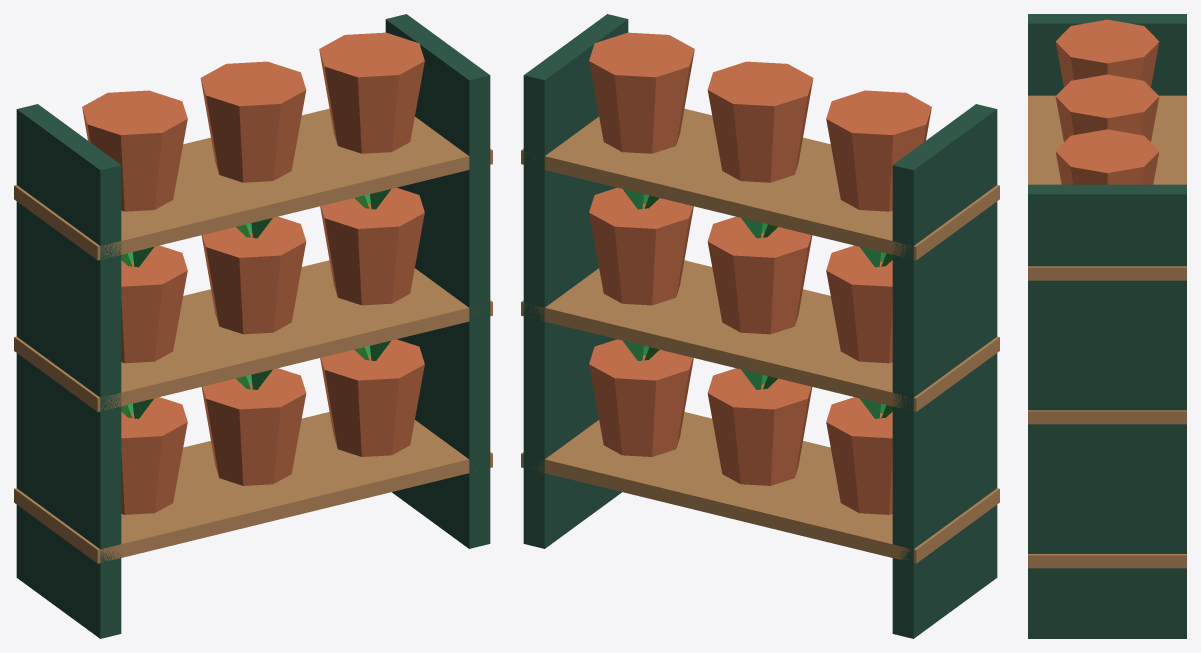
File: pot_rack.glb
3 renders of one model, left to right at view 1: azimuth 30°, elevation 25°; view 2: azimuth 150°, elevation 25°; view 3: azimuth 270°, elevation 25°, orthographic. The views are drawn at different scales.
Visible parts, largest first — view 1: pot_rack; view 2: pot_rack; view 3: pot_rack.
Part boxes in pixels (x1,y1,x2,y2): pot_rack: (14, 14, 492, 638); pot_rack: (521, 14, 999, 638); pot_rack: (1028, 14, 1186, 638).
Size of the model in its own units: 1.5 by 1.73 by 0.55.
